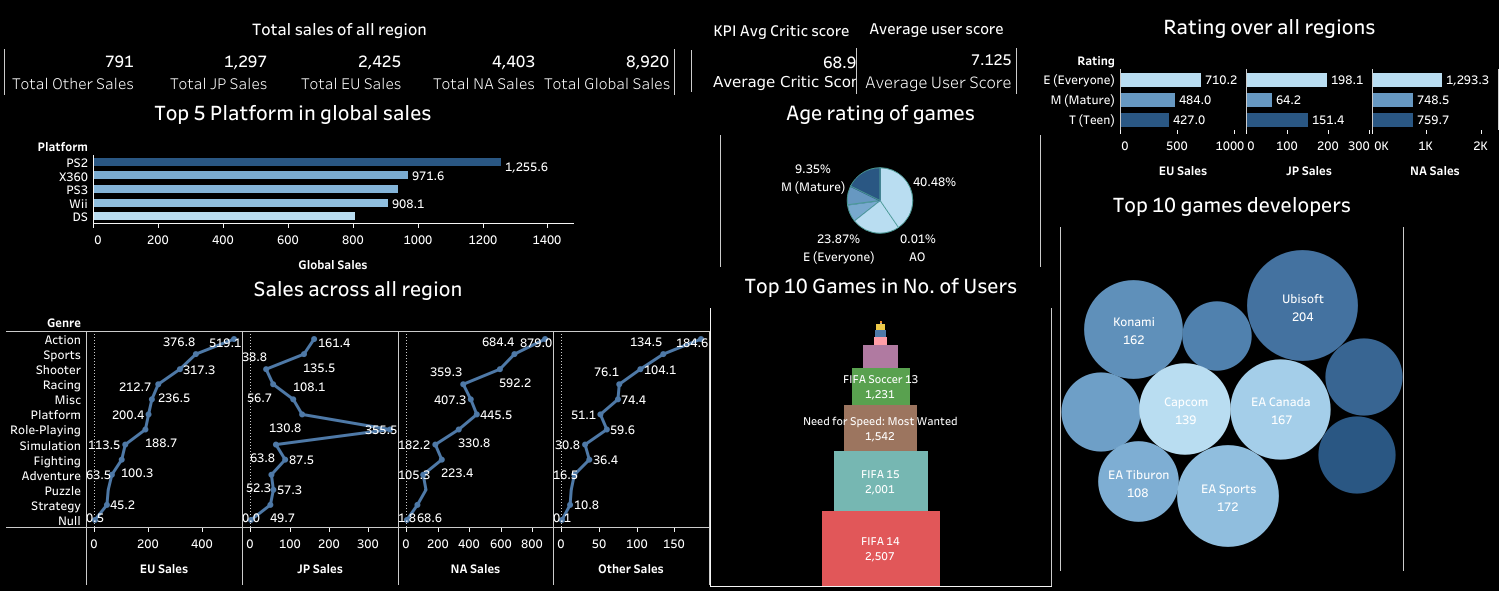

This screenshot's page, from the dashboard's own definition file:
{"tool":"tableau","page":{"name":"Dashboard 1","canvas":[1000,1000],"units":"permille","ordinal":0},"visuals":[{"type":"worksheet","title":"bar Rating over all regions","mark":"Automatic","rows":["Rating"],"cols":["EU_Sales","JP_Sales","NA_Sales"],"box":[693.3,10.1,306,307.4]},{"type":"worksheet","title":"KPI Total sales of all region","mark":"Automatic","box":[2.7,18.6,456.7,143.6]},{"type":"worksheet","title":"KPI Average user score","mark":"Automatic","box":[570.7,18.6,161.3,155.4]},{"type":"worksheet","title":"KPI KPI Avg Critic score","mark":"Automatic","box":[460.7,22,134,212.8]},{"type":"worksheet","title":"Bar Top 5 Platform in global sales","mark":"Automatic","rows":["Platform"],"cols":["Global_Sales"],"box":[8.7,155.4,373.3,317.6]},{"type":"worksheet","title":"Pie Age rating of games","mark":"Pie","box":[480,155.4,214,295.6]},{"type":"worksheet","title":"Bubble Top 10 games developers ","mark":"Circle","box":[706.7,310.8,230.7,653.7]},{"type":"worksheet","title":"Funnel Top 10 Games in No. of Users","mark":"Automatic","rows":["User_Count"],"box":[473.3,447.6,228,543.9]},{"type":"worksheet","title":"Sales across all region","mark":"Line","rows":["Genre"],"cols":["EU_Sales","JP_Sales","NA_Sales","Other_Sales"],"box":[4,452.7,469.3,535.5]}]}

Visuals, with their boxes on the dashboard's canvas, which has no fixed pixel size, in thousandths of its width and height (x1, y1, x2, y2). These are canvas units, not pixel positions in the 1499x591 screenshot, which may show the page scaled, cropped or inside an application window:
"bar Rating over all regions" worksheet: box=[693, 10, 999, 318]
"KPI Total sales of all region" worksheet: box=[3, 19, 459, 162]
"KPI Average user score" worksheet: box=[571, 19, 732, 174]
"KPI KPI Avg Critic score" worksheet: box=[461, 22, 595, 235]
"Bar Top 5 Platform in global sales" worksheet: box=[9, 155, 382, 473]
"Pie Age rating of games" worksheet (Pie marks): box=[480, 155, 694, 451]
"Bubble Top 10 games developers " worksheet (Circle marks): box=[707, 311, 937, 964]
"Funnel Top 10 Games in No. of Users" worksheet: box=[473, 448, 701, 992]
"Sales across all region" worksheet (Line marks): box=[4, 453, 473, 988]
